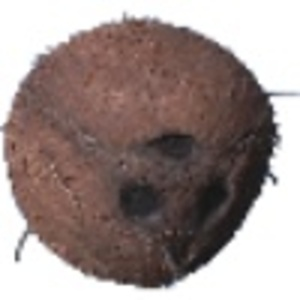coco: (1, 19, 300, 289)
